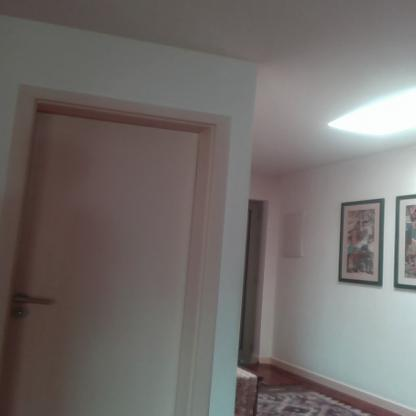door: (12, 121, 182, 416)
lever: (13, 295, 53, 306)
